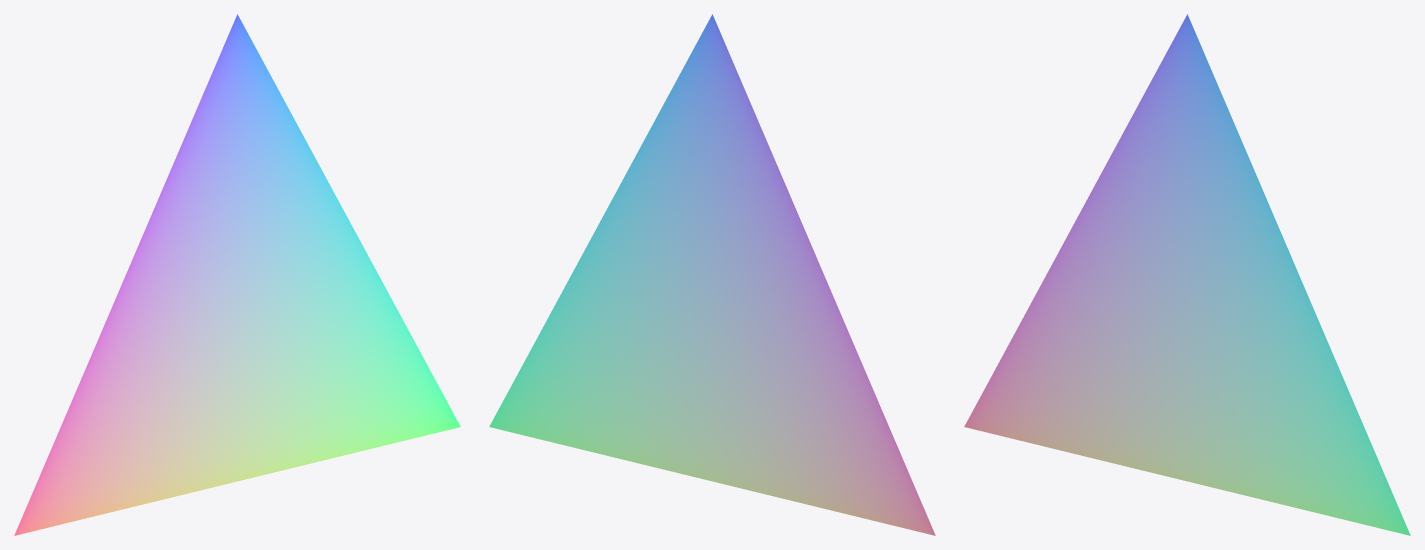
Rendered from SharedMaterialMissingUvs.gltf.
The picture shows the model from 3 angles, left to right: view 1: azimuth 30°, elevation 25°; view 2: azimuth 150°, elevation 25°; view 3: azimuth 330°, elevation 25°; orthographic projection.
Bounding box in the file's own units: 1 × 1 × 0.
Materials: 1 (1 with a texture image).
